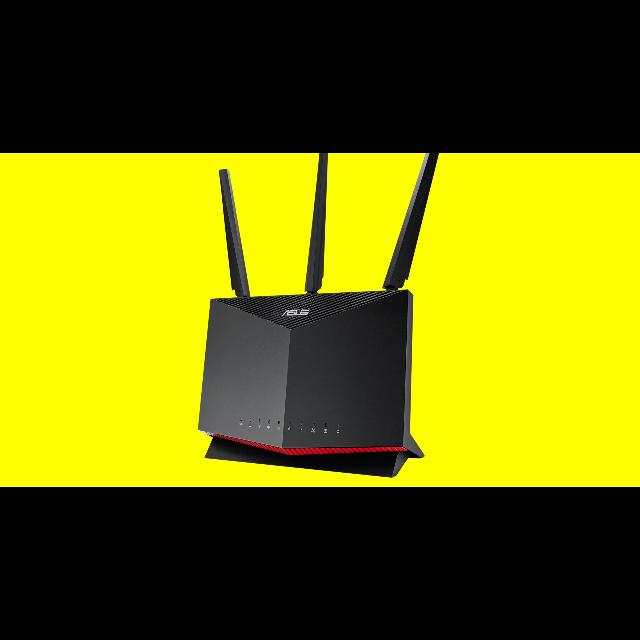Router: (198, 153, 442, 480)
